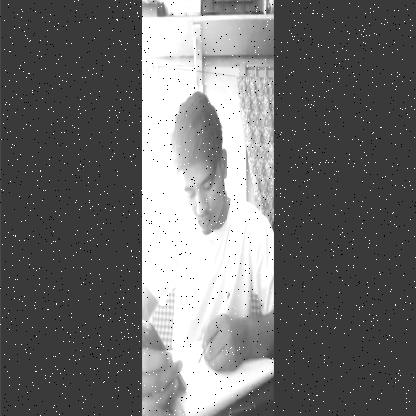Distracted: (172, 86, 226, 232)
